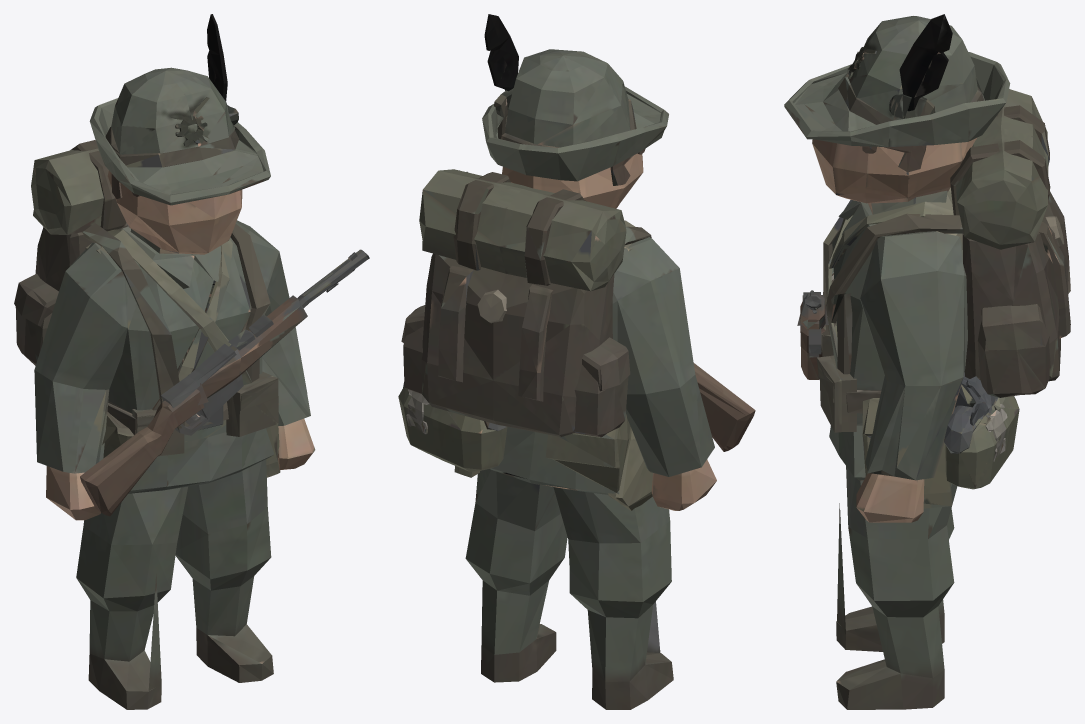
Rendered from sicily_italian_mountain_inf_0.glb.
The picture shows the model from 3 angles, left to right: view 1: azimuth 30°, elevation 25°; view 2: azimuth 150°, elevation 25°; view 3: azimuth 270°, elevation 25°; orthographic projection. The views are drawn at different scales.
Visible parts, largest first — view 1: geometry_0; view 2: geometry_0; view 3: geometry_0.
Part boxes in pixels (x1,y1,x2,y2): geometry_0: (14,14,369,709); geometry_0: (398,14,755,709); geometry_0: (784,14,1070,709).
Size of the model in its own units: 0.1529 by 0.324 by 0.1227.
1 material, 1 textured.
